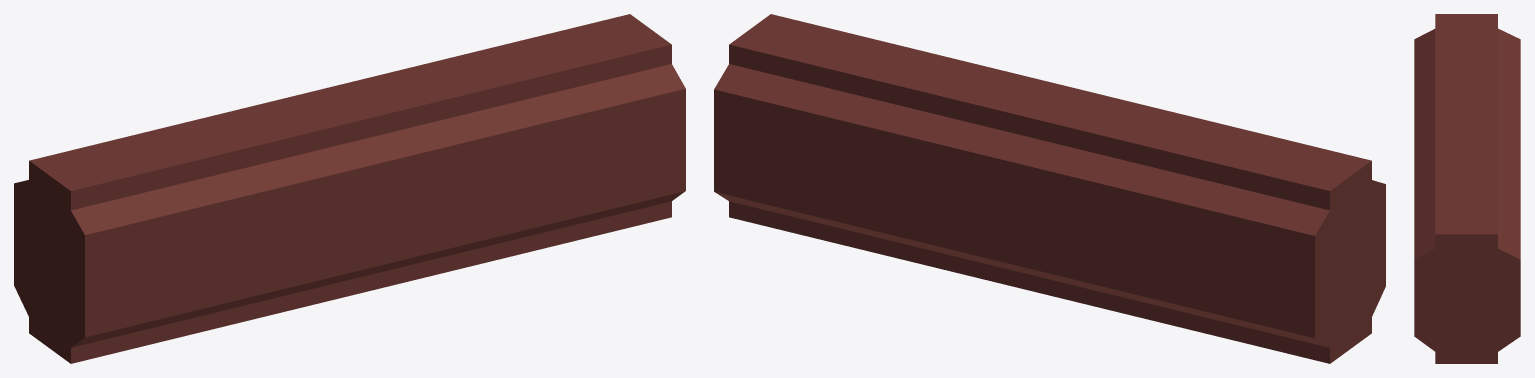
Rendered from upper door beam.fbx.
The picture shows the model from 3 angles, left to right: view 1: azimuth 30°, elevation 25°; view 2: azimuth 150°, elevation 25°; view 3: azimuth 270°, elevation 25°; orthographic projection. The views are drawn at different scales.
Visible parts, largest first — view 1: upper door beam; view 2: upper door beam; view 3: upper door beam.
Part boxes in pixels (x1=…): upper door beam: x1=14, y1=14, x2=685, y2=363; upper door beam: x1=714, y1=14, x2=1385, y2=363; upper door beam: x1=1414, y1=14, x2=1520, y2=363.
Size of the model in its own units: 1315 by 361 by 269.
